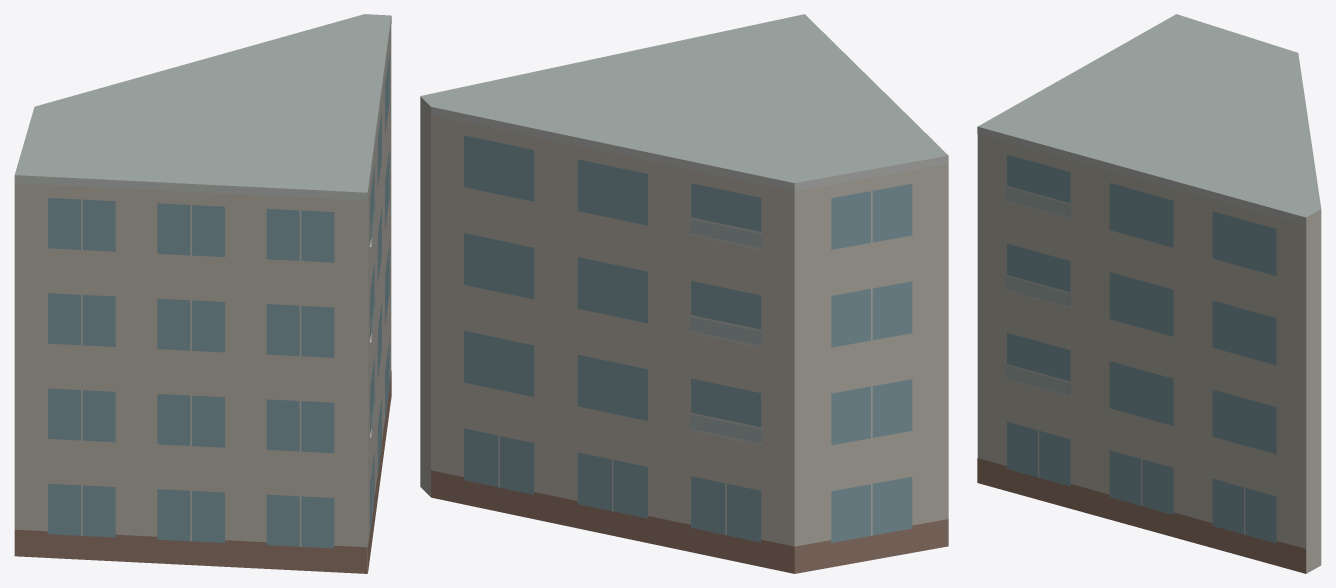
Rendered from survey-upis-32980325.glb.
The picture shows the model from 3 angles, left to right: view 1: azimuth 30°, elevation 25°; view 2: azimuth 150°, elevation 25°; view 3: azimuth 270°, elevation 25°; orthographic projection. The views are drawn at different scales.
Visible parts, largest first — view 1: survey-upis-32980325.tmp; view 2: survey-upis-32980325.tmp; view 3: survey-upis-32980325.tmp.
Part boxes in pixels (x1,y1,x2,y2): survey-upis-32980325.tmp: (14, 14, 391, 573); survey-upis-32980325.tmp: (420, 14, 948, 573); survey-upis-32980325.tmp: (977, 14, 1321, 573).
Size of the model in its own units: 14.34 by 11.7 by 10.24.
